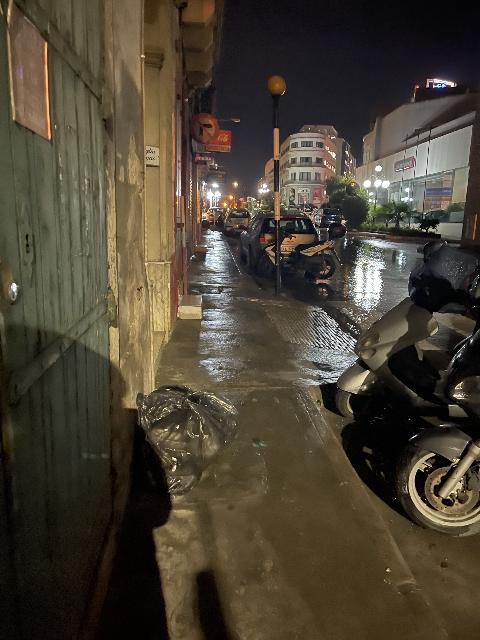Recyclable -Grey-: (135, 385, 238, 495)
